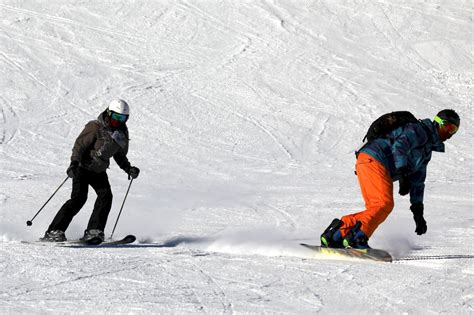skier: (19, 96, 143, 248)
snowboarder: (292, 102, 460, 264)
